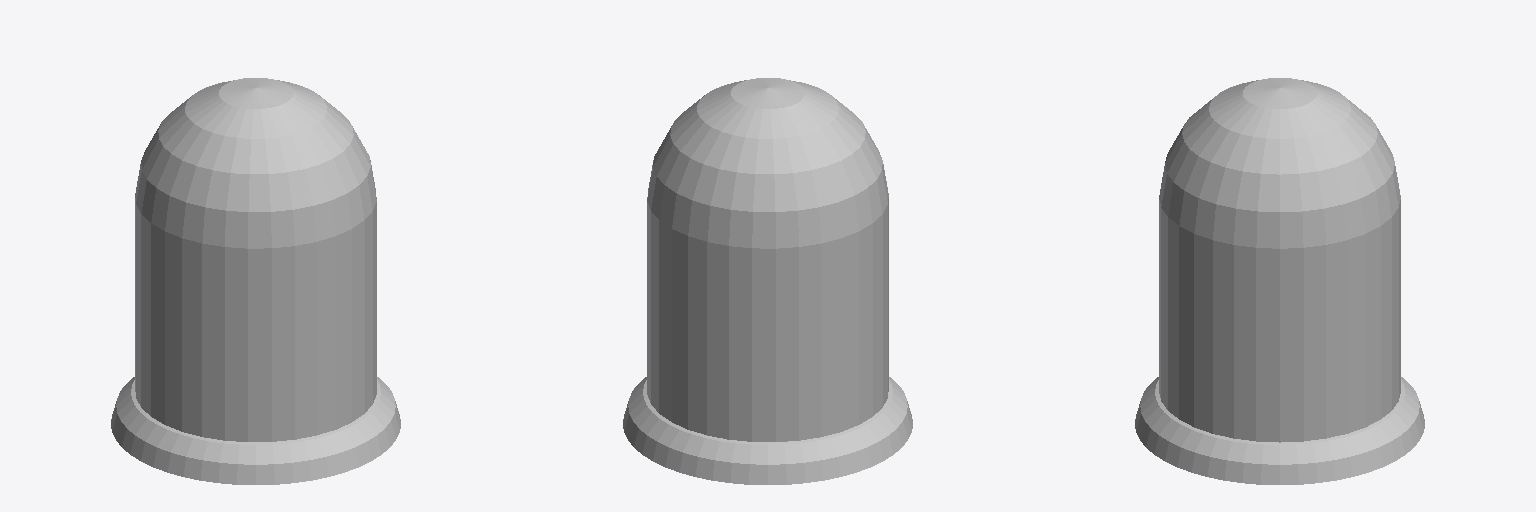
The model's file is GreenBlobGlass.obj.
The picture shows the model from 3 angles: view 1: azimuth 30°, elevation 25°; view 2: azimuth 150°, elevation 25°; view 3: azimuth 270°, elevation 25°; orthographic projection.
Parts seen in each view (by area): view 1: TopTorus, BottomTorus; view 2: TopTorus, BottomTorus; view 3: TopTorus, BottomTorus.
Boxes of the visible parts, <box> form: TopTorus: <box>135,78,376,441</box>; BottomTorus: <box>111,377,400,484</box>; TopTorus: <box>647,78,888,441</box>; BottomTorus: <box>623,377,912,484</box>; TopTorus: <box>1159,78,1400,442</box>; BottomTorus: <box>1135,377,1424,484</box>.
Bounding box in the file's own units: 1.8 × 2.3 × 1.8.